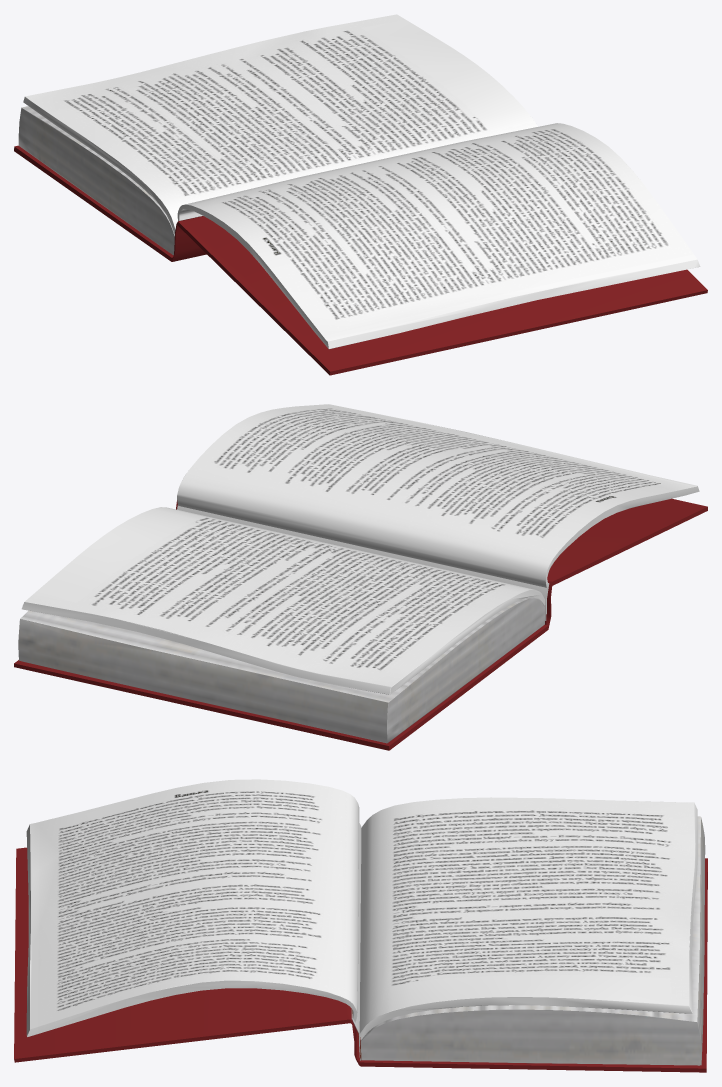
Rendered from book.fbx.
The picture shows the model from 3 angles, top to bottom: view 1: azimuth 30°, elevation 25°; view 2: azimuth 150°, elevation 25°; view 3: azimuth 270°, elevation 25°; orthographic projection. The views are drawn at different scales.
Visible parts, largest first — view 1: book; view 2: book; view 3: book.
Part boxes in pixels (left/top/right/bottom): book: left=14, top=14, right=707, bottom=375; book: left=14, top=404, right=707, bottom=750; book: left=14, top=779, right=707, bottom=1072.
Bounding box in the file's own units: 26.5 × 5.88 × 38.64.
Materials: 1 (1 with a texture image).
